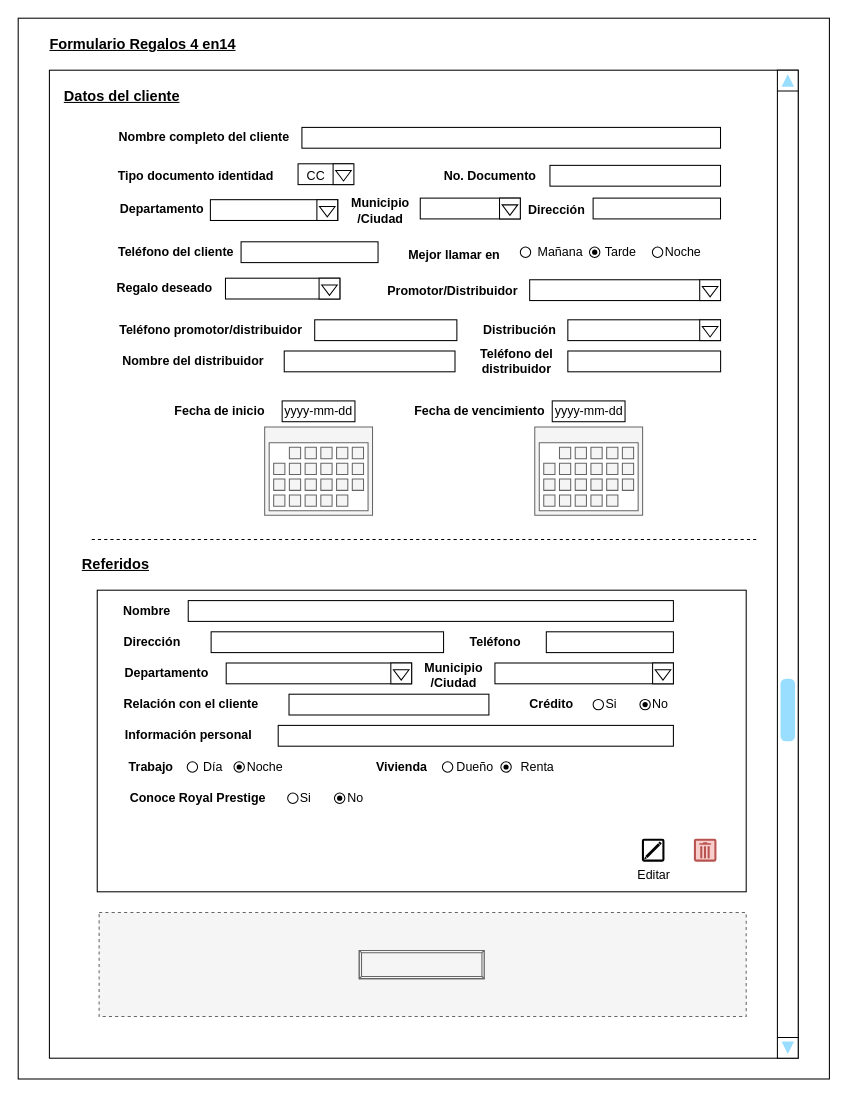
Image size: 848x1097. Some labels were removed from this diagram. Here are the shapes that lost their labels. From the top down, the centre of each, then its label:
At [704,849]: "Borrar".
At [421,964]: "Agregar referido +".
